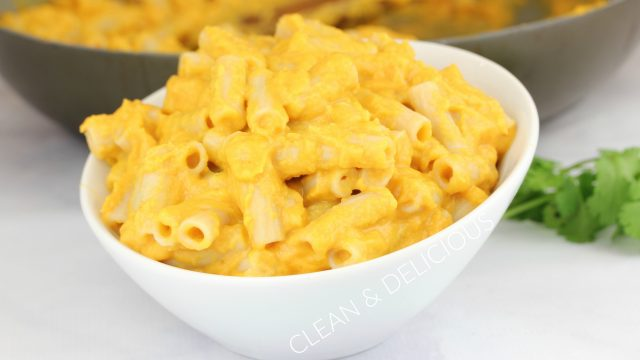macncheese: (66, 18, 513, 273)
